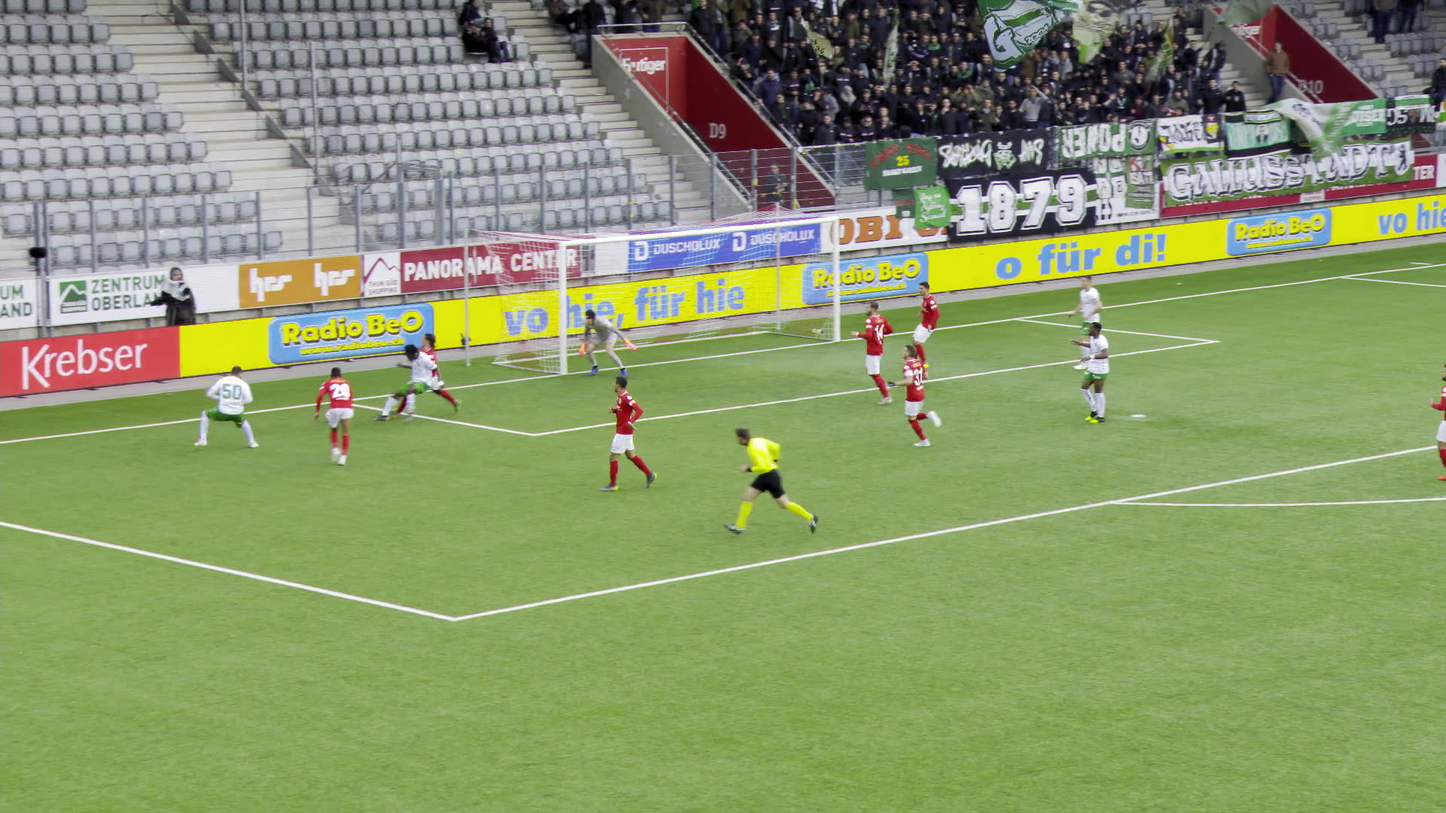ball: (322, 406, 334, 421)
player: (593, 374, 660, 492), (383, 324, 463, 421), (883, 337, 949, 449), (370, 335, 447, 430), (840, 297, 901, 407), (190, 362, 261, 452), (569, 306, 642, 381), (1064, 320, 1112, 425), (310, 364, 358, 466), (1060, 270, 1107, 373), (900, 279, 945, 379), (1426, 364, 1445, 480)
referee: (716, 419, 822, 537)
